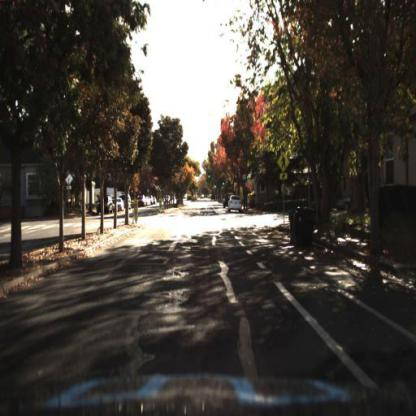car: (335, 192, 353, 215), (337, 193, 352, 214), (96, 198, 112, 214), (230, 196, 244, 214), (223, 193, 229, 210), (117, 197, 123, 212)
trafficLight-Green: (206, 172, 213, 188), (212, 178, 219, 193), (222, 180, 230, 192), (222, 176, 227, 189), (214, 183, 219, 192)
